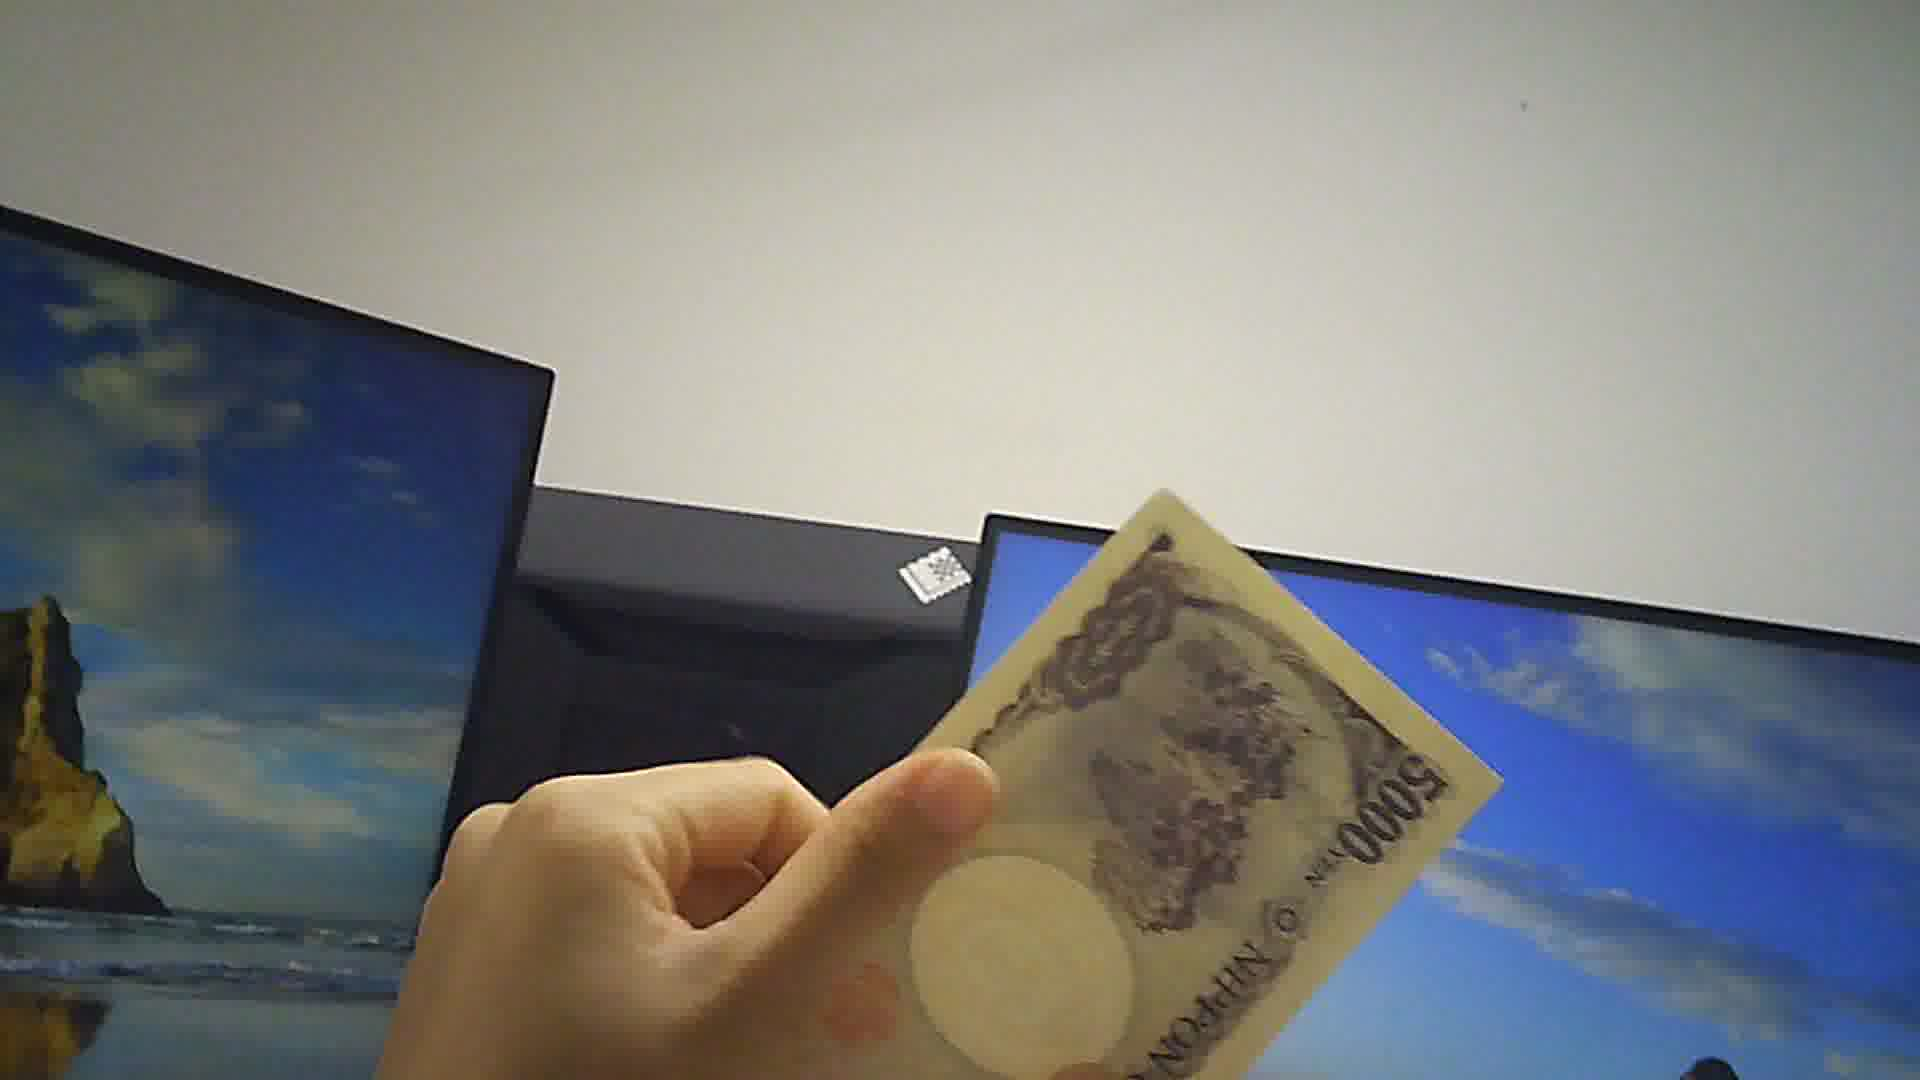5,000 Yen: (793, 489, 1501, 1079)
